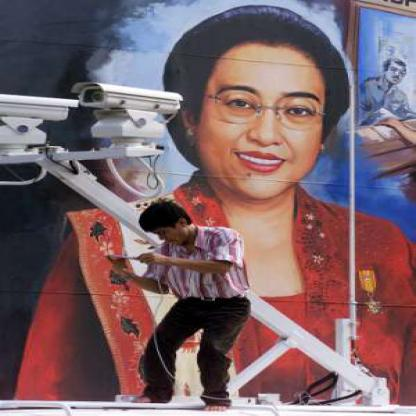face: (197, 23, 336, 203), (147, 215, 183, 251)
